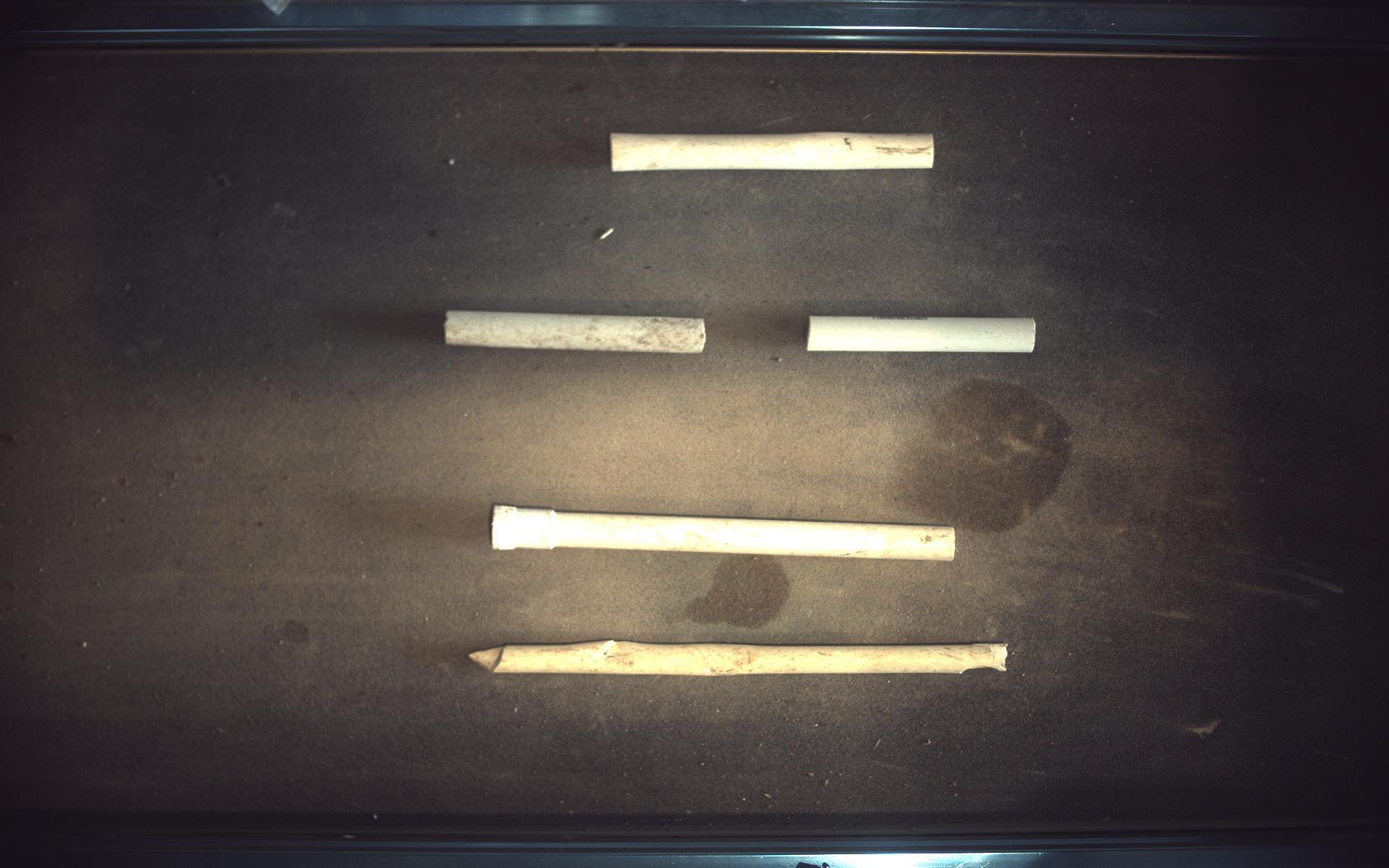pipes: (492, 505, 958, 561), (470, 641, 1010, 678), (613, 132, 936, 171), (445, 310, 707, 353), (810, 315, 1038, 352)
